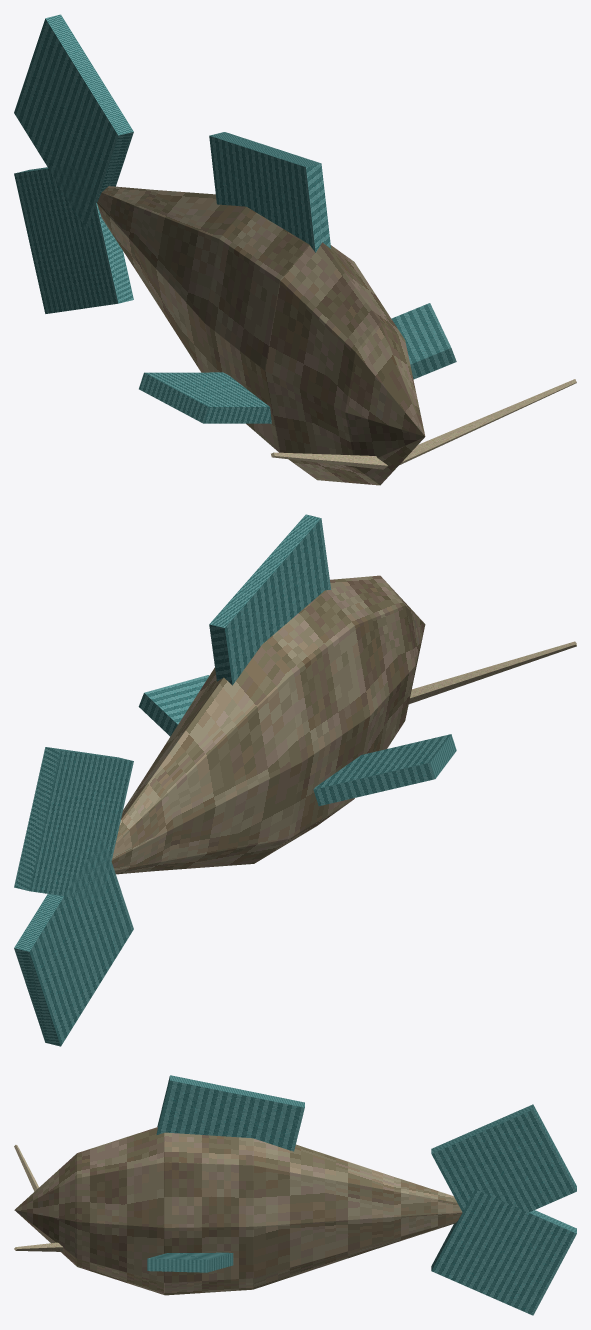
The model's file is bagre_lama.glb.
3 views of the same model, one above another, from view 1: azimuth 30°, elevation 25°; view 2: azimuth 150°, elevation 25°; view 3: azimuth 270°, elevation 25° (orthographic). The views are drawn at different scales.
Parts seen in each view (by area): view 1: bagre_lama; view 2: bagre_lama; view 3: bagre_lama.
Part boxes in pixels (x1,y1,x2,y2): bagre_lama: [14, 14, 576, 485]; bagre_lama: [14, 514, 576, 1046]; bagre_lama: [14, 1075, 576, 1315].
Bounding box in the file's own units: 0.4106 × 0.4342 × 0.9412.
1 material, 1 textured.
